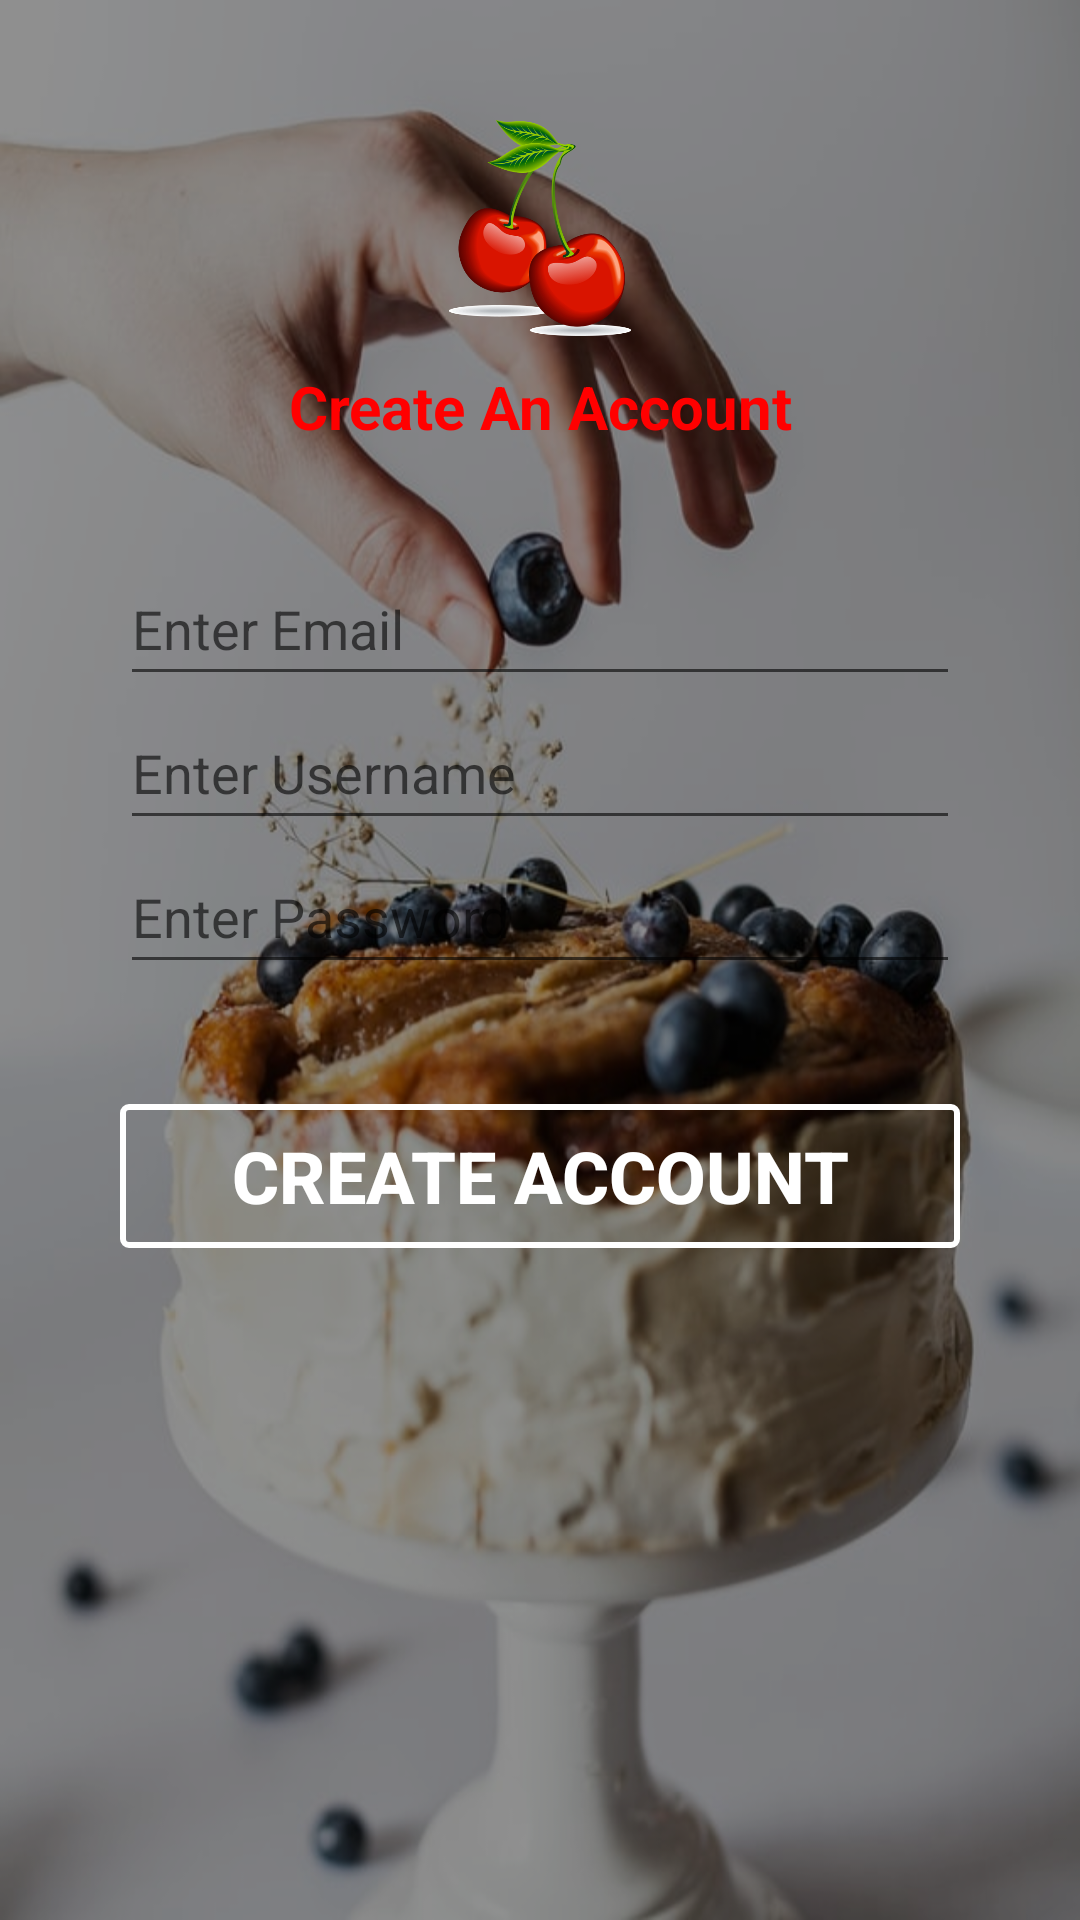

Where to tap for icons on this 1080×1920 app screen, as (x=x, y=y):
cherry: (x=540, y=228)
